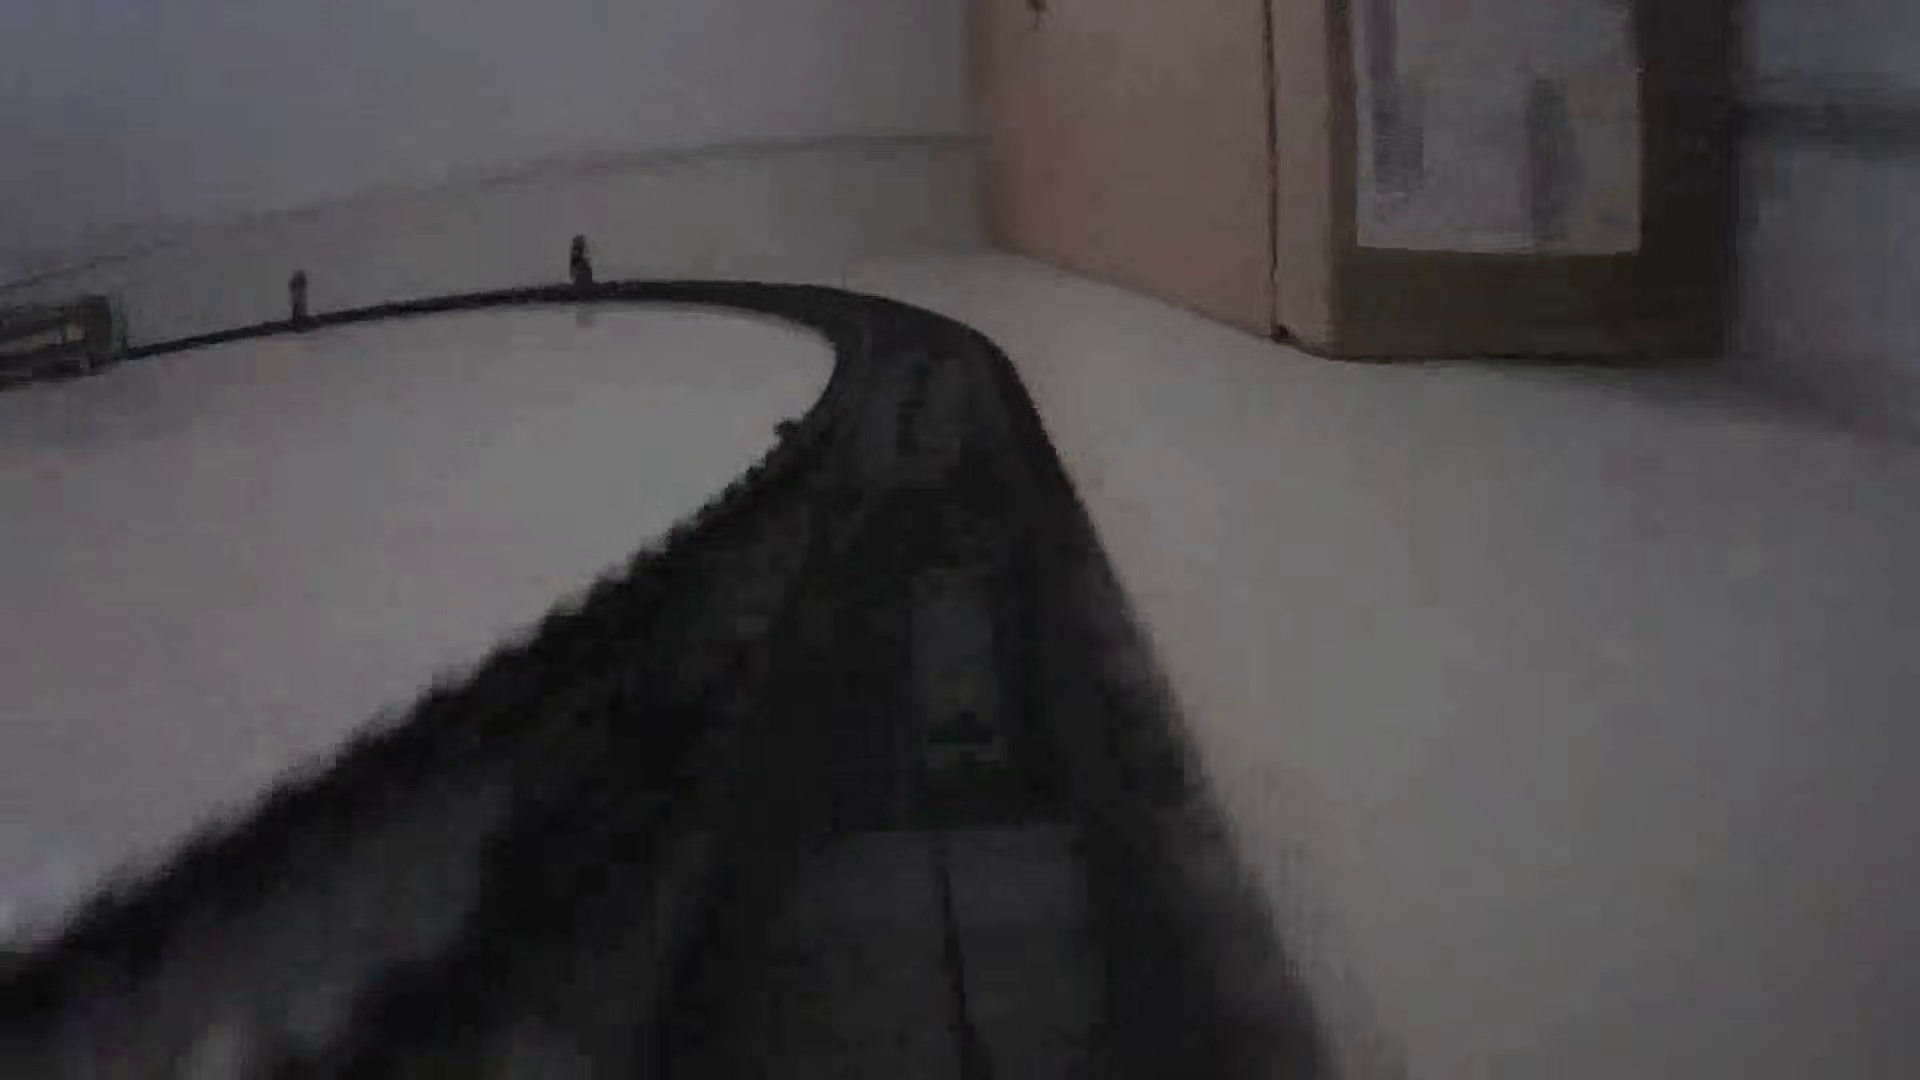people: (568, 235, 596, 301), (287, 267, 310, 329)
